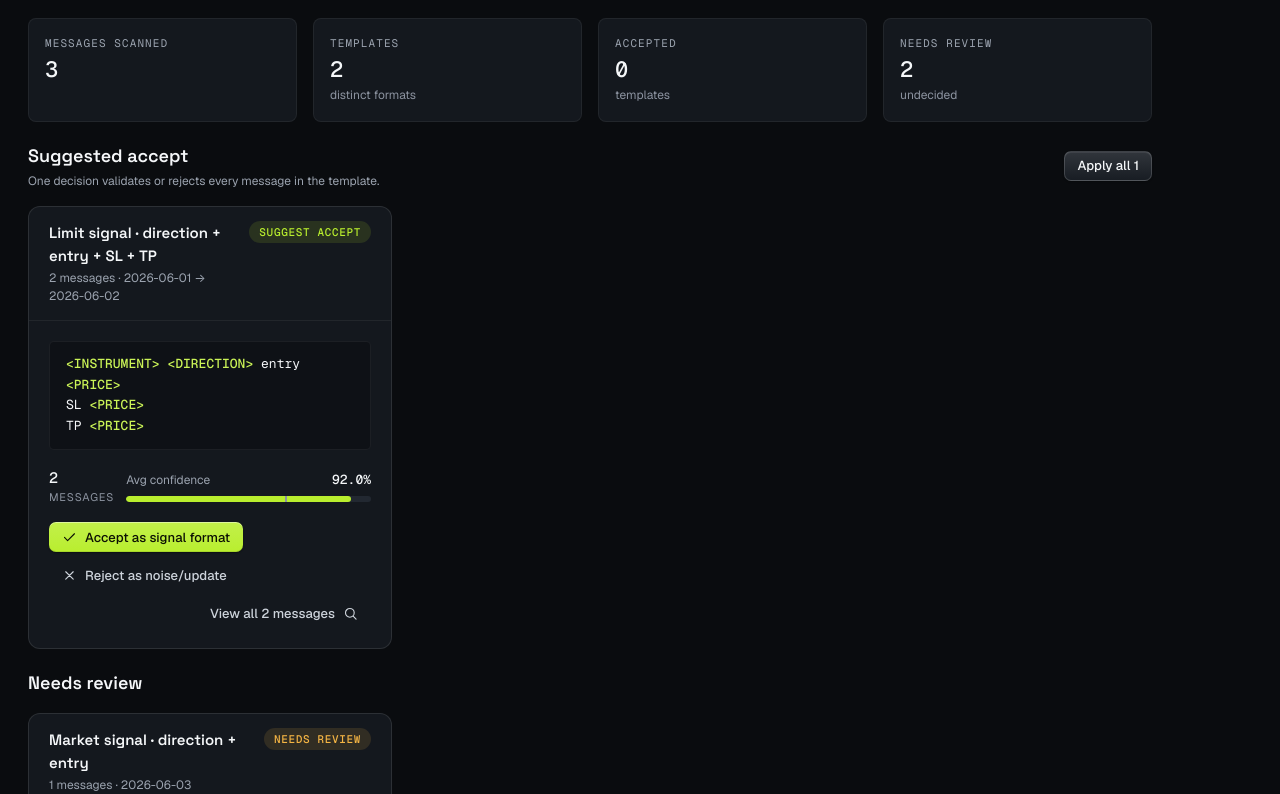
Test: TemplateMiningPage › gates "Continue to verify" until a template is accepted
Expected: the text "Suggested accept" is shown, [28,144,188,167]
Click the button "Accept as signal format" at (146, 537), box [49,522,243,552]
(page scrolled)
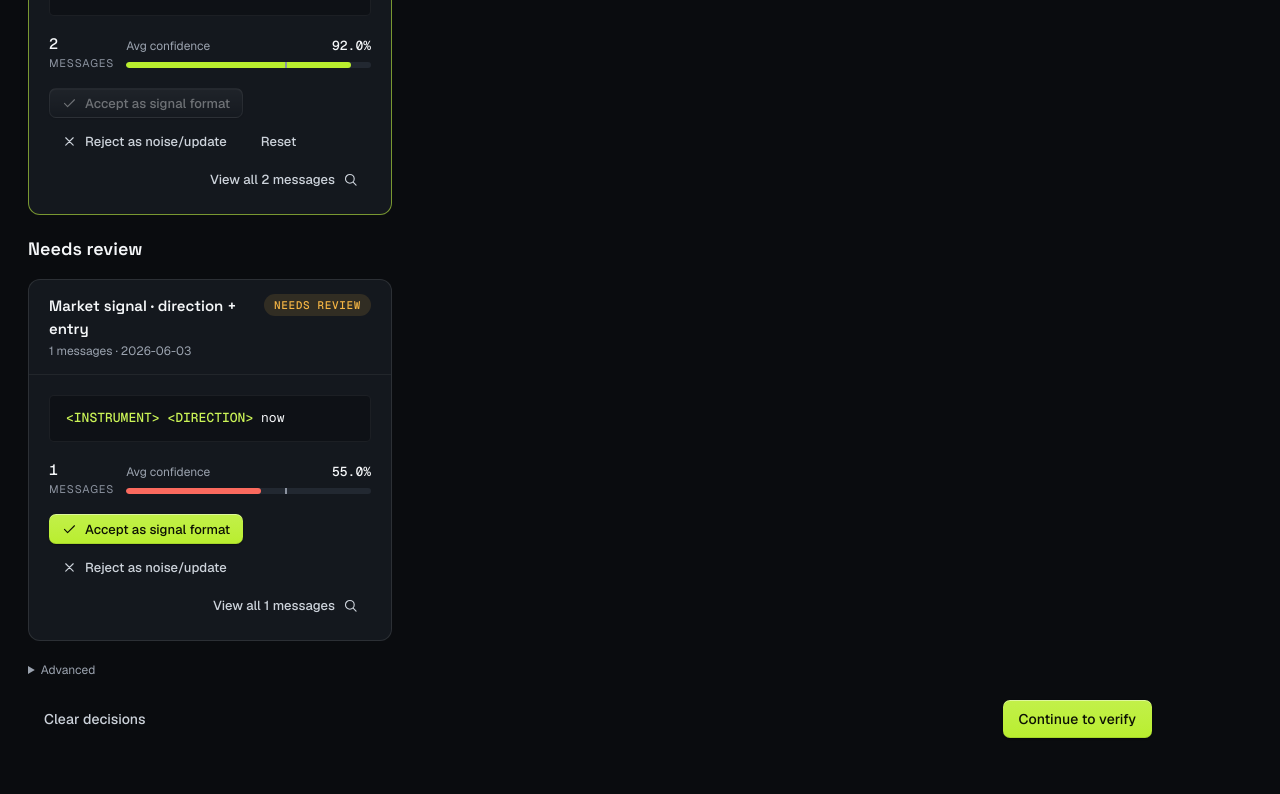
Expected: the button "Continue to verify" is enabled, [1003,700,1152,738]
